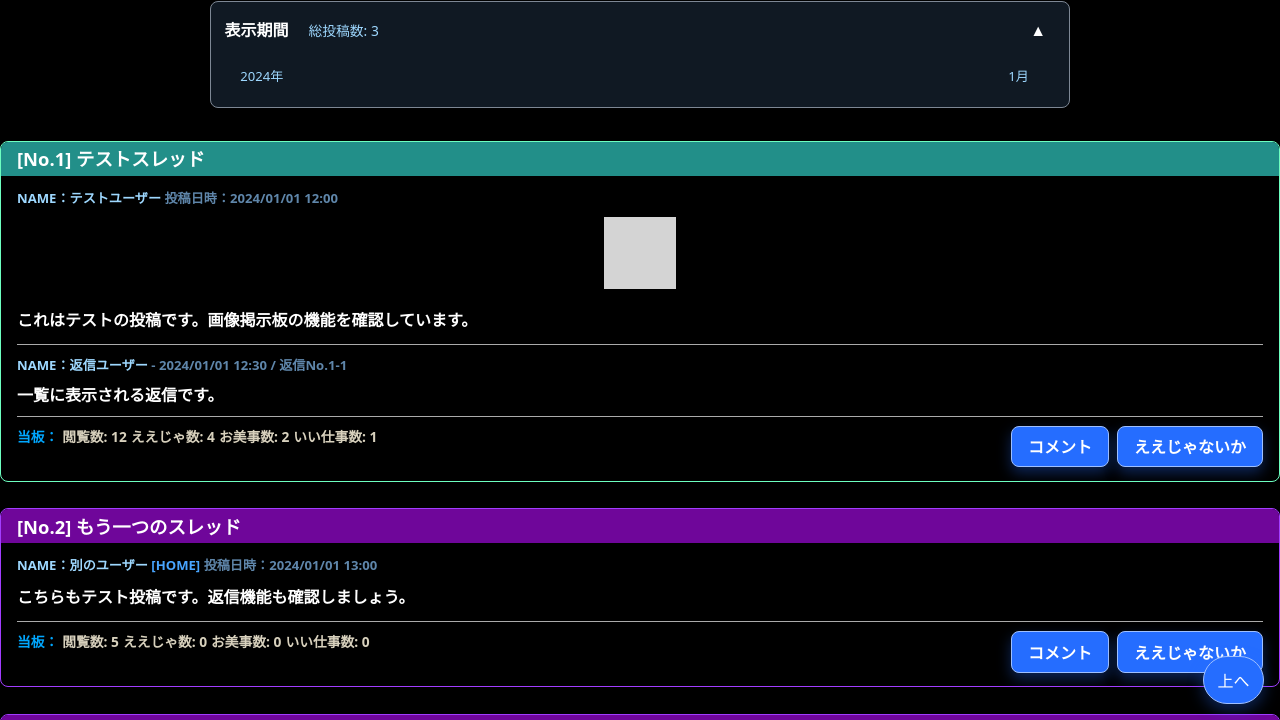
Test: HomePage › shows period filters with the selected post total
Expected: the heading "表示期間" is shown, [225,21,289,40]
Expected: the text "総投稿数: 3" is shown, [309,20,379,40]
Click the button "2024年" at coordinates (262, 77), box [227,64,297,90]
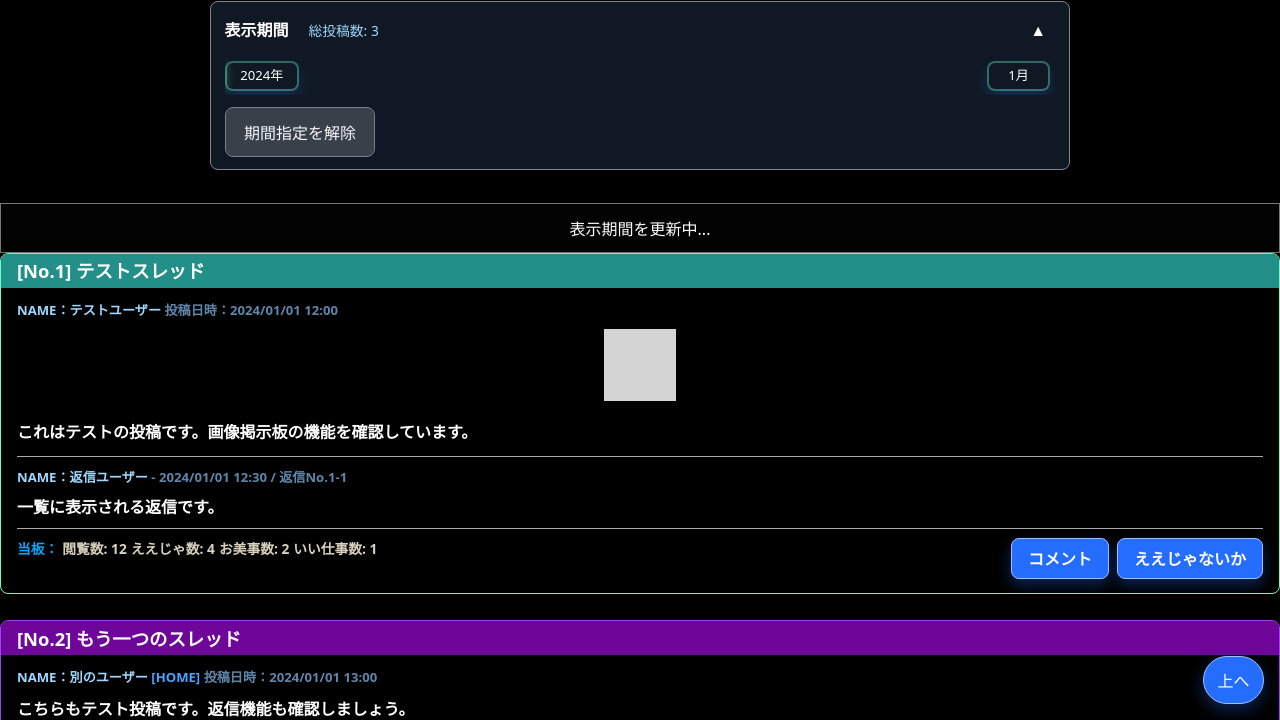
Expected: the button "期間指定を解除" is shown, [225,107,375,157]
